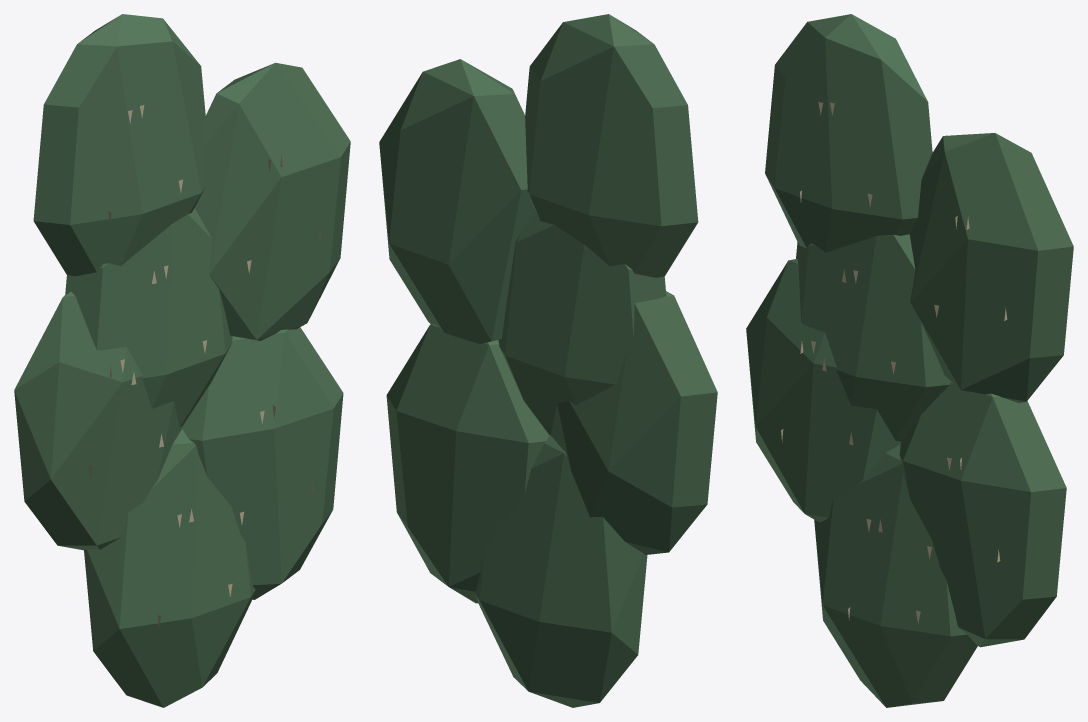
File: vegetation-cactus-paddle.lod2.glb
3 views of the same model, side by side, from view 1: azimuth 30°, elevation 25°; view 2: azimuth 150°, elevation 25°; view 3: azimuth 330°, elevation 25° (orthographic). The views are drawn at different scales.
Visible parts, largest first — view 1: vegetation-cactus-paddle__body; view 2: vegetation-cactus-paddle__body; view 3: vegetation-cactus-paddle__body.
Part boxes in pixels (x1=…): vegetation-cactus-paddle__body: x1=14, y1=14, x2=350, y2=707; vegetation-cactus-paddle__body: x1=379, y1=14, x2=717, y2=707; vegetation-cactus-paddle__body: x1=746, y1=14, x2=1073, y2=707.
Bounding box in the file's own units: 1.19 × 2.36 × 0.2493.
